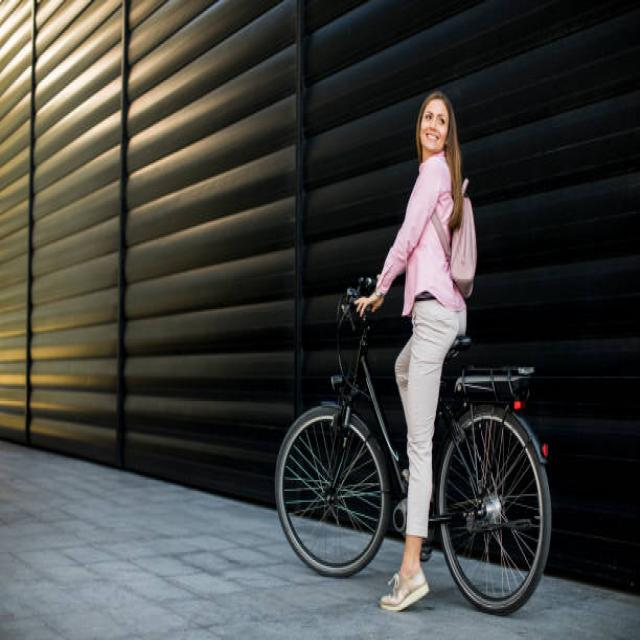bicycle: (276, 92, 551, 612)
